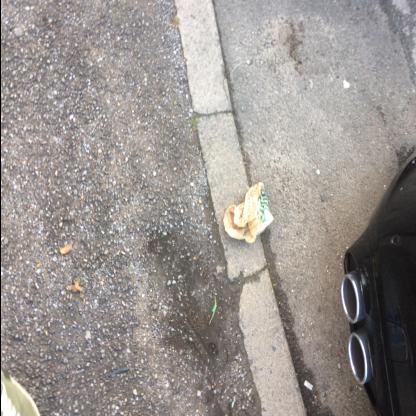kagit: (222, 182, 273, 243)
